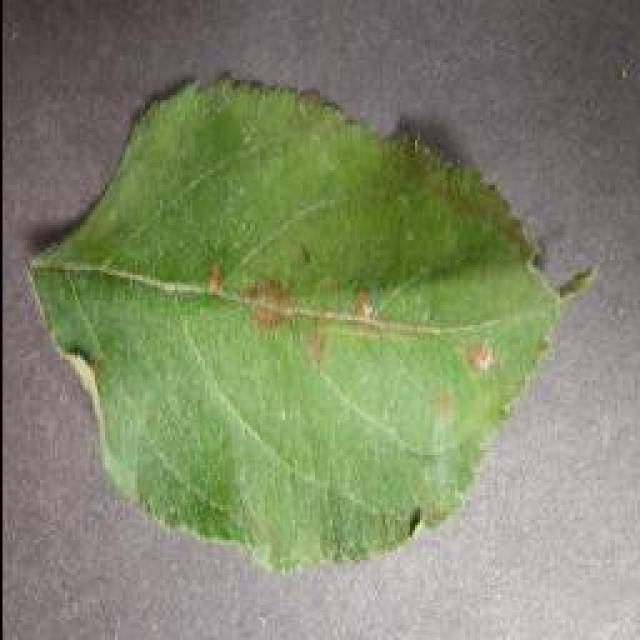apple cedar apple rust: (23, 70, 595, 575)
